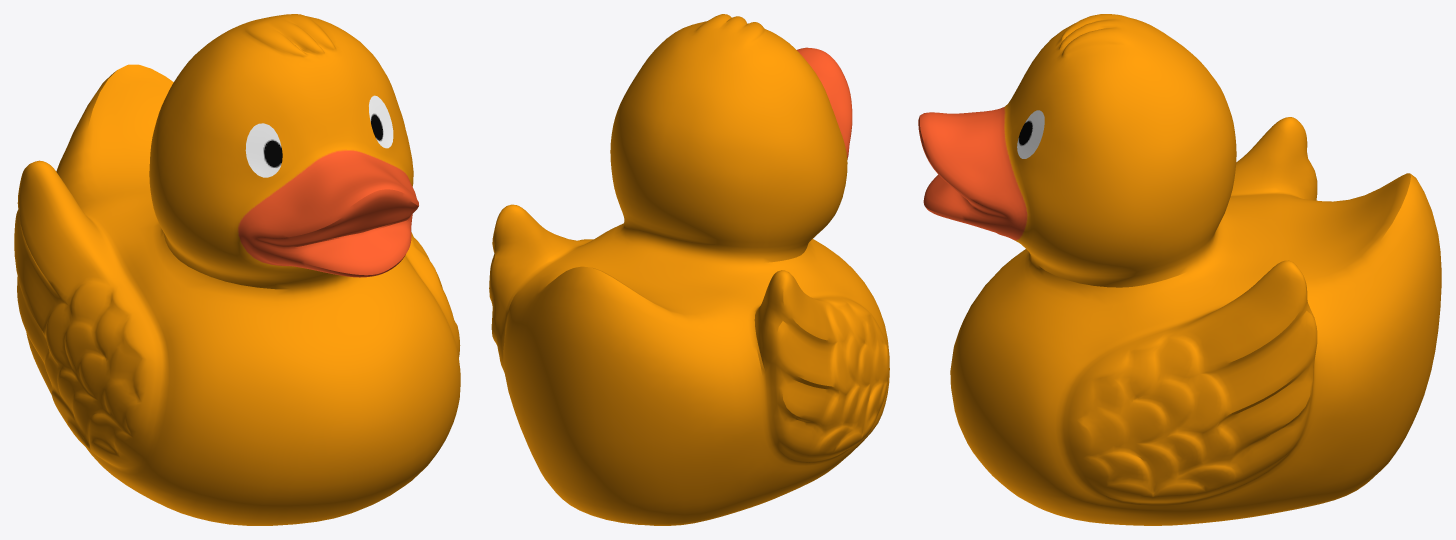
File: duck.obj
3 views of the same model, side by side, from view 1: azimuth 30°, elevation 25°; view 2: azimuth 150°, elevation 25°; view 3: azimuth 270°, elevation 25° (orthographic). The views are drawn at different scales.
Parts seen in each view (by area): view 1: duck; view 2: duck; view 3: duck.
Boxes of the visible parts, x1,y1,x2,y2 form: duck: [14, 14, 460, 525]; duck: [489, 14, 889, 525]; duck: [918, 14, 1441, 525].
Bounding box in the file's own units: 0.578 × 0.7156 × 0.7497.
Materials: 1 (1 with a texture image).
